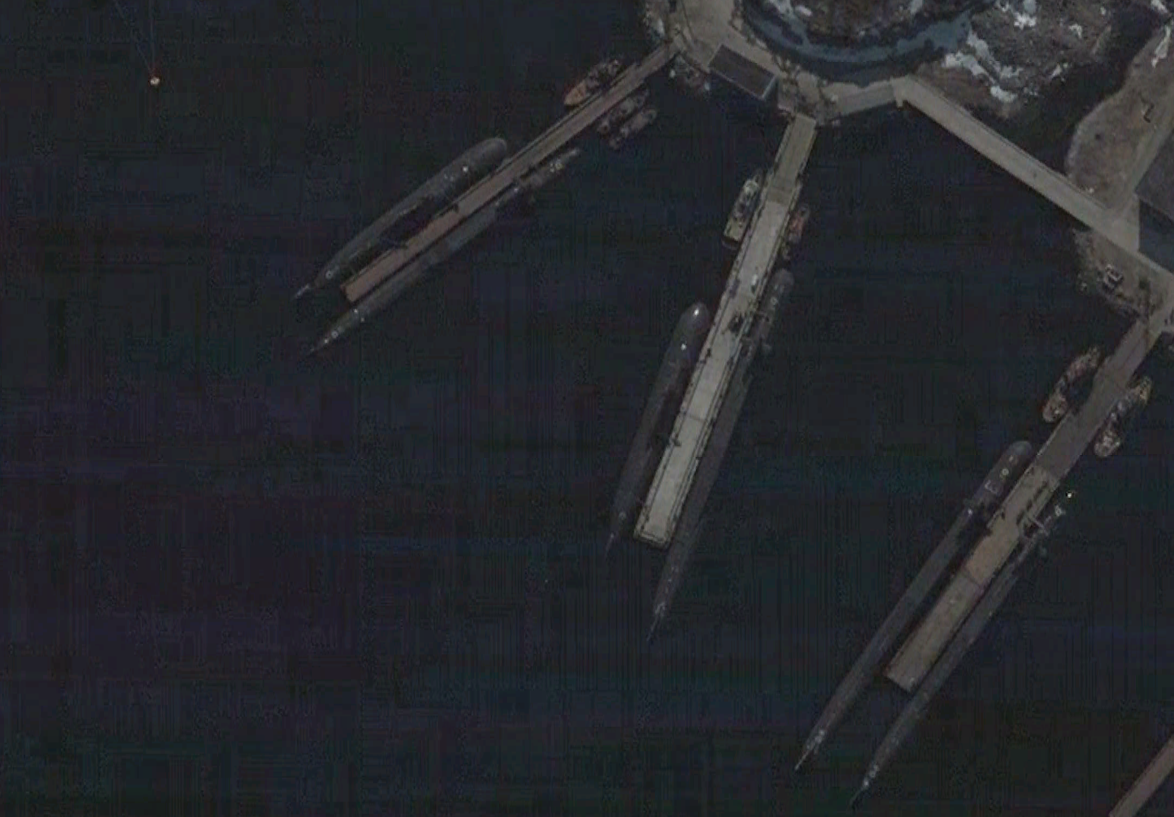merchant ship: (1093, 378, 1152, 459), (1041, 346, 1099, 424), (719, 169, 763, 253), (563, 55, 619, 105), (594, 87, 651, 133), (605, 107, 659, 149), (779, 201, 811, 262)
submarine: (791, 442, 1028, 775), (848, 488, 1079, 807), (306, 145, 583, 355), (642, 268, 788, 648), (287, 137, 506, 305), (599, 299, 709, 561)
